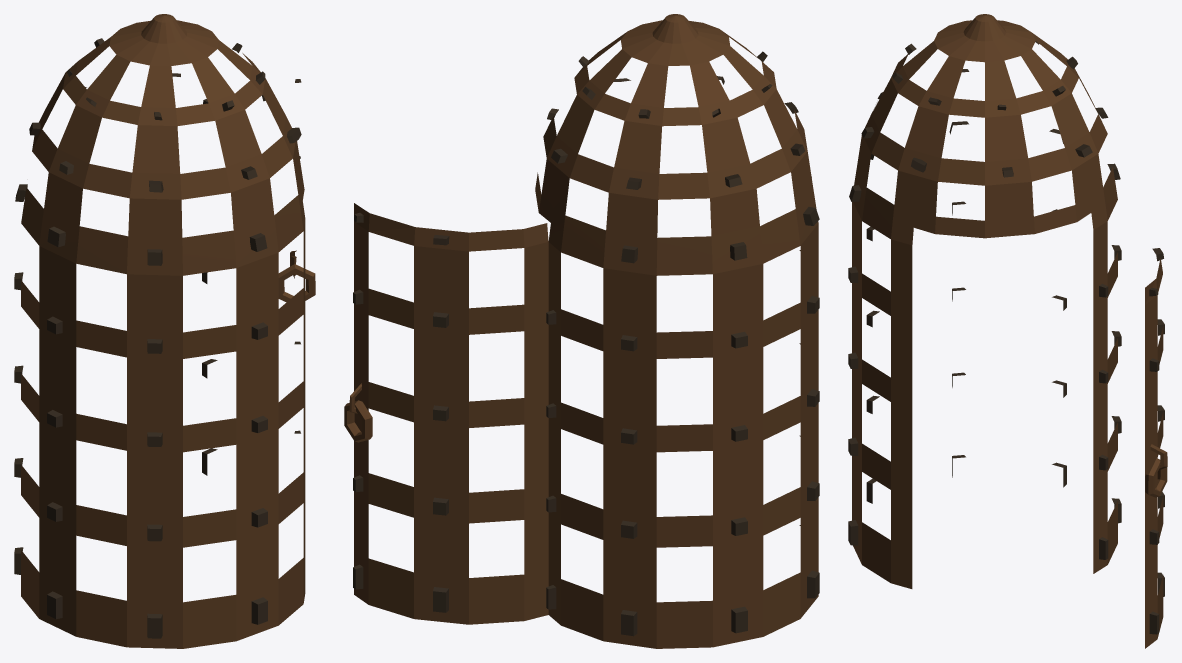
File: Cage.glb
3 views of the same model, side by side, from view 1: azimuth 30°, elevation 25°; view 2: azimuth 150°, elevation 25°; view 3: azimuth 270°, elevation 25° (orthographic). The views are drawn at different scales.
Visible parts, largest first — view 1: Cage.001, Rivet.001; view 2: Cage.001, Rivet.001; view 3: Cage.001, Rivet.001.
Part boxes in pixels (bbox=[...]): Cage.001: bbox=[21, 14, 315, 648]; Rivet.001: bbox=[14, 38, 301, 638]; Cage.001: bbox=[344, 14, 818, 648]; Rivet.001: bbox=[353, 51, 819, 636]; Cage.001: bbox=[852, 14, 1167, 648]; Rivet.001: bbox=[848, 41, 1164, 634].
Size of what is drawn, in the model's own units: 5.1 by 7.58 by 4.16.
